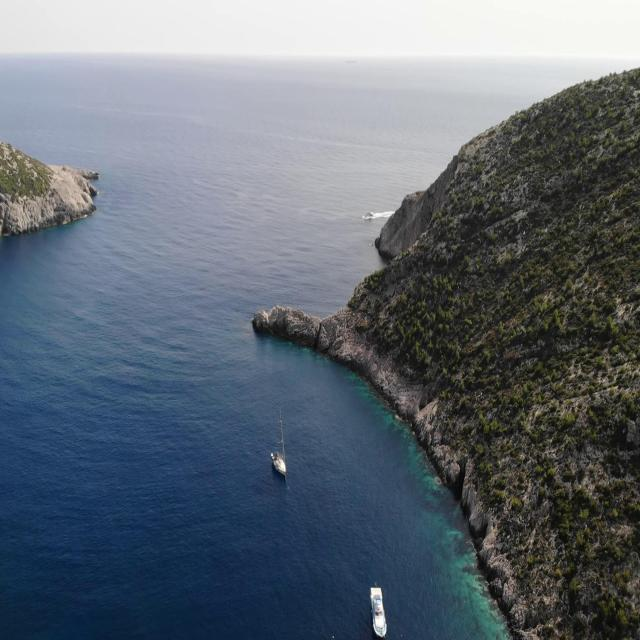boat: (368, 584, 389, 638)
sailboat: (271, 411, 287, 481)
